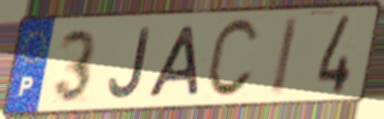3: (52, 27, 100, 104)
4: (315, 12, 353, 98)
A: (145, 22, 203, 100)
C: (202, 16, 261, 102)
I: (268, 14, 302, 99)
J: (107, 25, 153, 101)
